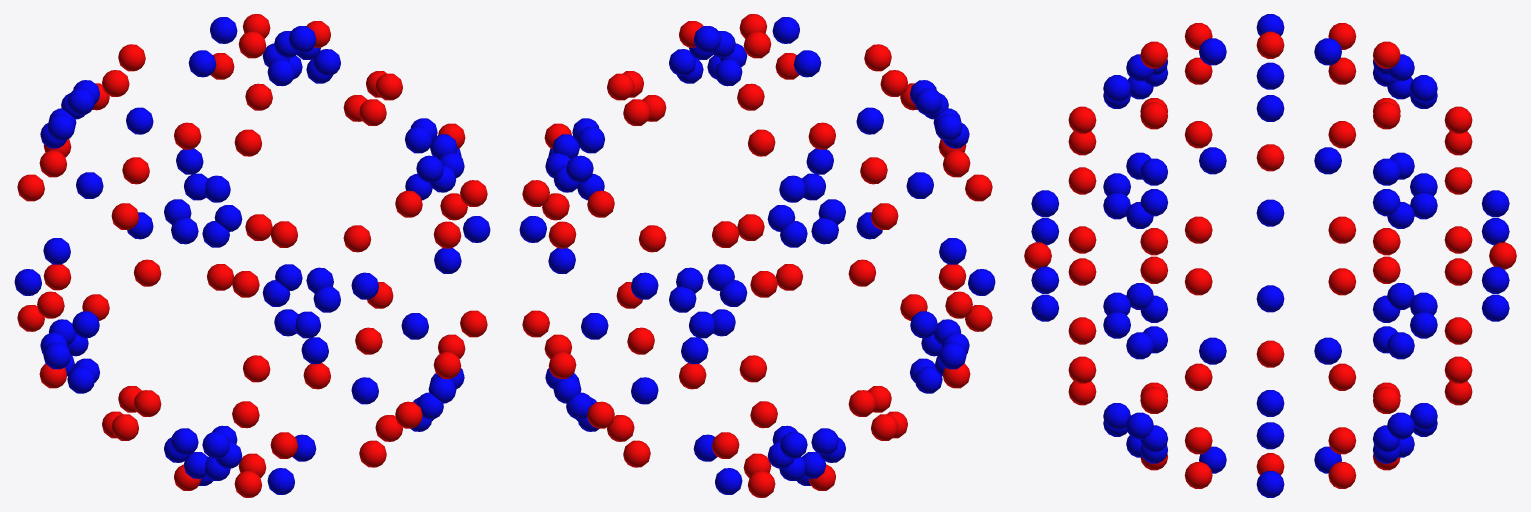
The model's file is aspc2024.glb.
The picture shows the model from 3 angles, left to right: view 1: azimuth 30°, elevation 25°; view 2: azimuth 150°, elevation 25°; view 3: azimuth 270°, elevation 25°; orthographic projection.
Size of the model in its own units: 2.12 by 2.12 by 2.12.
